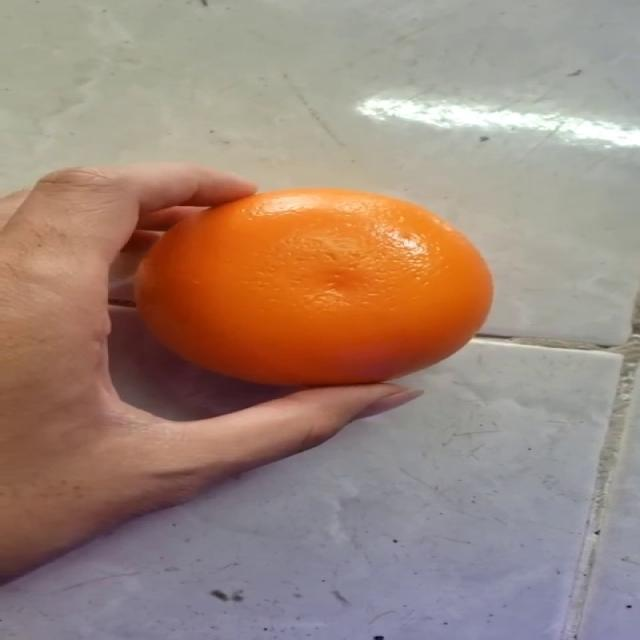Orange: (132, 185, 495, 387)
